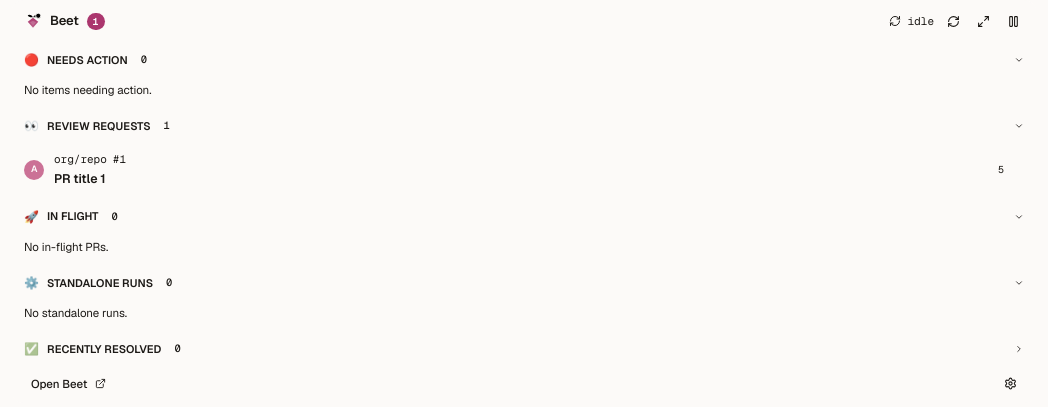
Test case: TrayPopover › section collapse state survives a remount (SPECS §11)
Click the text "Review Requests": [99, 126] box left=47, top=118, right=150, bottom=134
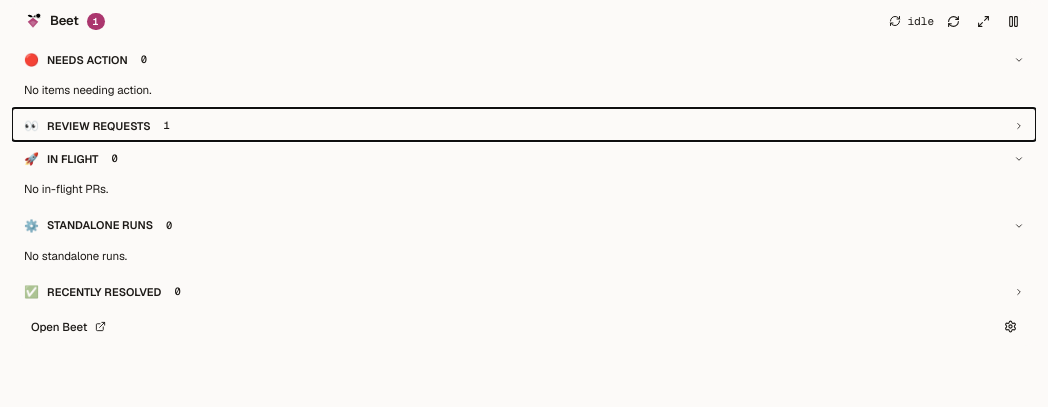
Now the button "PR title 1" is gone
